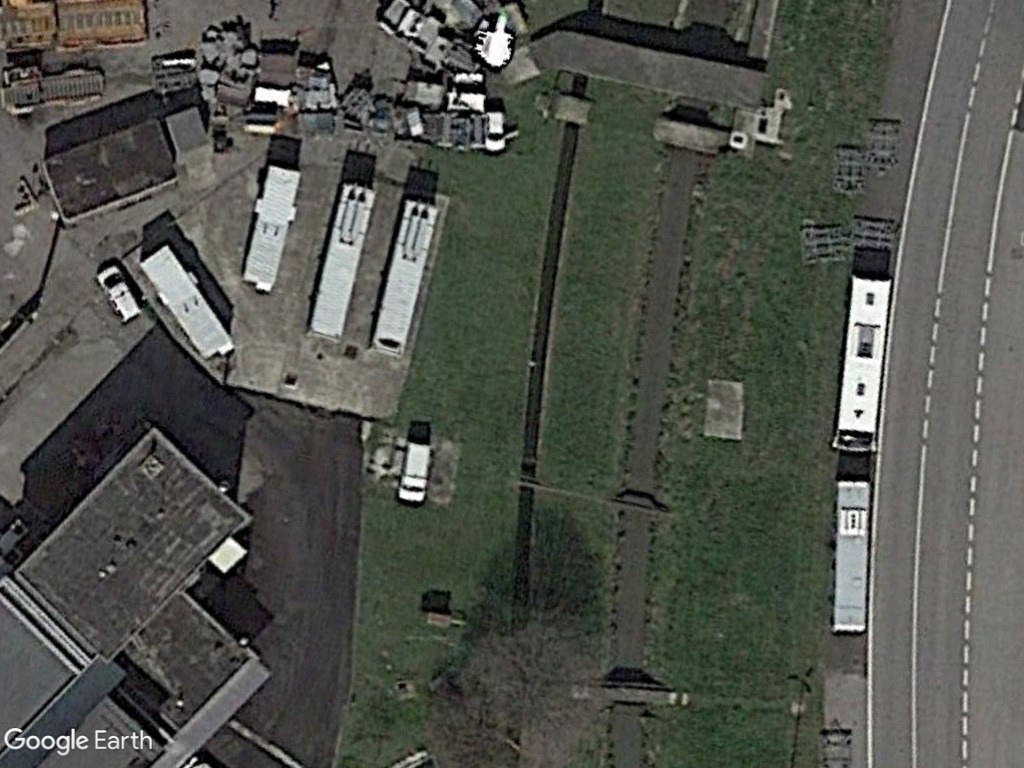bus: (829, 268, 896, 457), (368, 193, 445, 356), (310, 177, 379, 342), (236, 162, 306, 295), (828, 478, 873, 634)
van: (92, 263, 149, 326), (395, 439, 436, 507), (478, 110, 510, 156)
